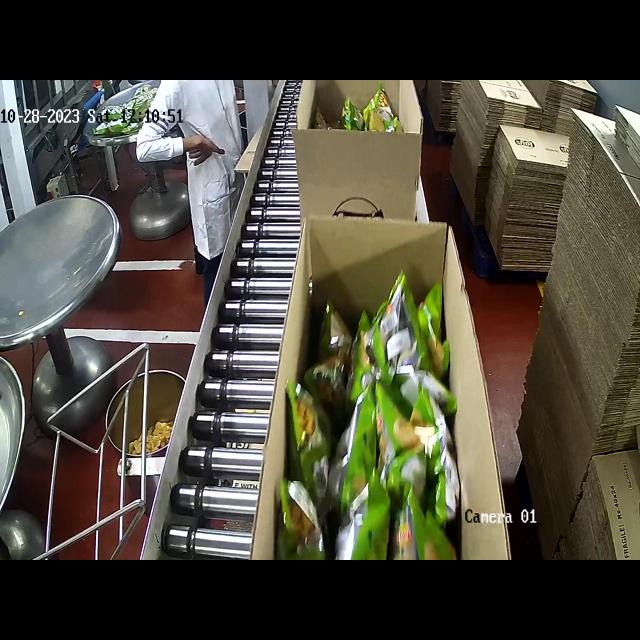yogurt: (276, 268, 460, 558), (307, 90, 406, 129)
